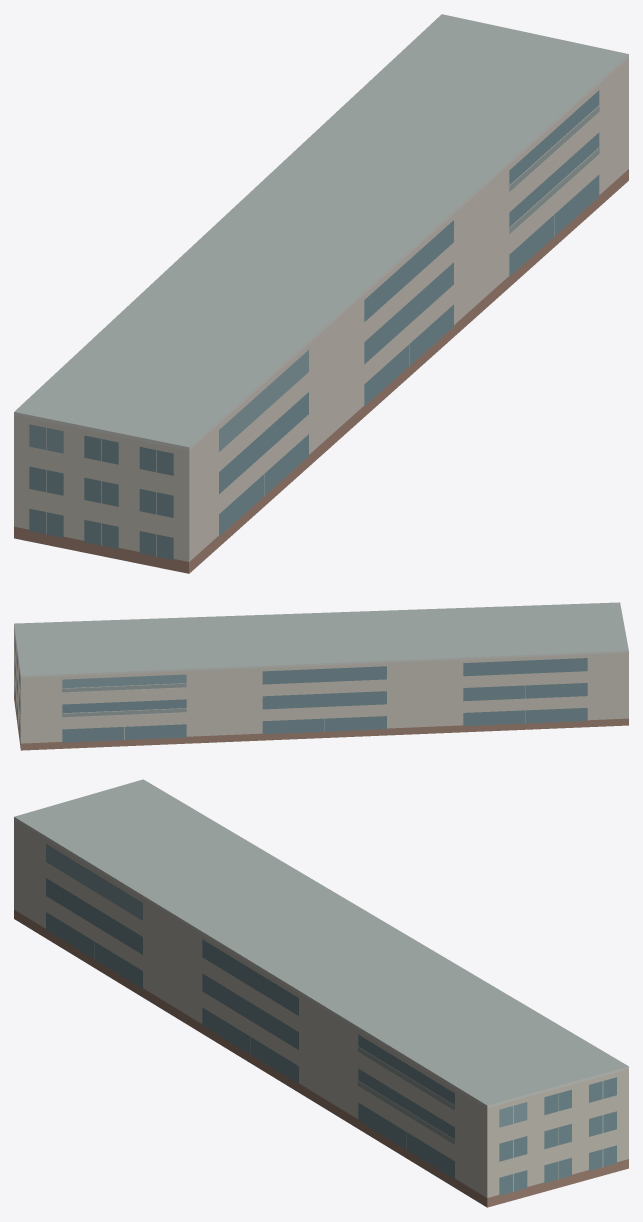
File: survey-upis-32632700.glb
3 views of the same model, one above another, from view 1: azimuth 30°, elevation 25°; view 2: azimuth 150°, elevation 25°; view 3: azimuth 270°, elevation 25° (orthographic). The views are drawn at different scales.
Parts seen in each view (by area): view 1: survey-upis-32632700.tmp; view 2: survey-upis-32632700.tmp; view 3: survey-upis-32632700.tmp.
Boxes of the visible parts, x1=… form: survey-upis-32632700.tmp: x1=14, y1=14, x2=628, y2=573; survey-upis-32632700.tmp: x1=14, y1=602, x2=628, y2=750; survey-upis-32632700.tmp: x1=14, y1=779, x2=628, y2=1207.
Size of the model in its own units: 62.67 by 9.15 by 49.93.
